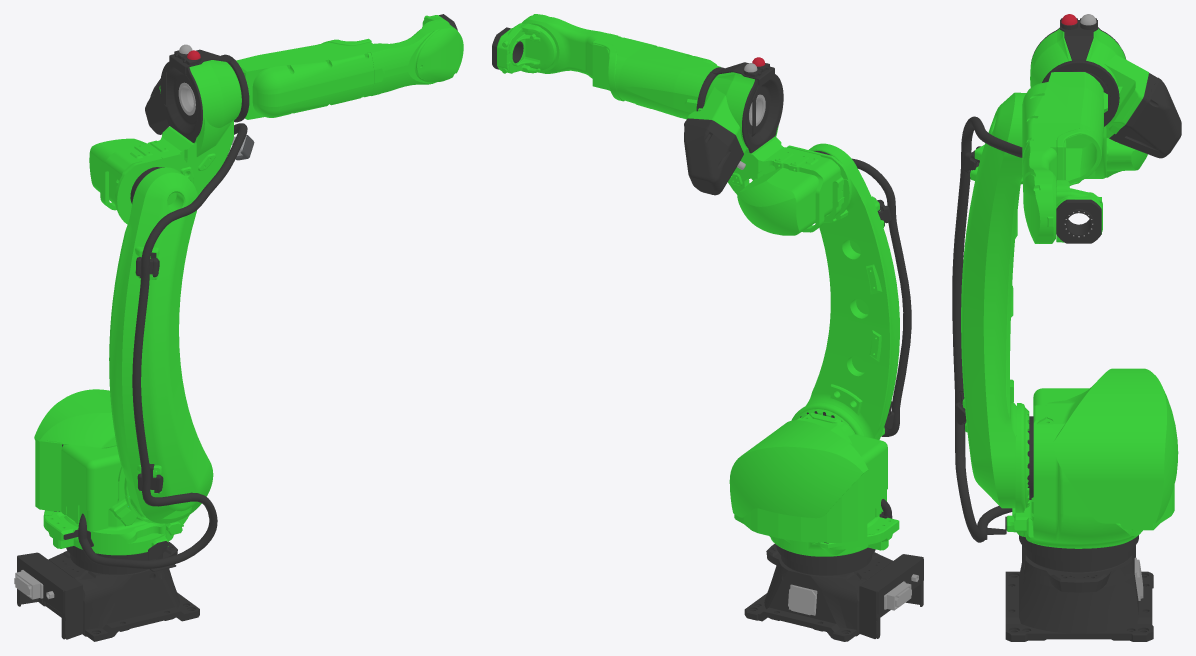
The model's file is FANUC_CR35iB.glb.
The picture shows the model from 3 angles, left to right: view 1: azimuth 30°, elevation 25°; view 2: azimuth 150°, elevation 25°; view 3: azimuth 270°, elevation 25°; orthographic projection. The views are drawn at different scales.
Parts seen in each view (by area): view 1: link_2, link_1, link_3, link_4, link_0; view 2: link_1, link_2, link_3, link_0, link_4, link_5; view 3: link_1, link_2, link_3, link_0, link_4, link_5, link_6.
Boxes of the visible parts, x1,y1,x2,y2 form: link_2: (109,167,213,523); link_1: (34,389,217,574); link_3: (89,44,254,224); link_4: (236,22,463,119); link_0: (14,541,199,641); link_1: (729,413,899,575); link_2: (791,143,911,439); link_3: (684,57,851,235); link_0: (744,543,923,641); link_4: (521,14,720,118); link_5: (492,23,556,73); link_1: (955,368,1178,572); link_2: (952,92,1033,512); link_3: (974,14,1181,178); link_0: (1005,545,1153,641); link_4: (1022,72,1107,243); link_5: (1056,179,1102,243); link_6: (1063,209,1094,237).
Size of the model in its own units: 1.33 by 1.63 by 0.5324.
